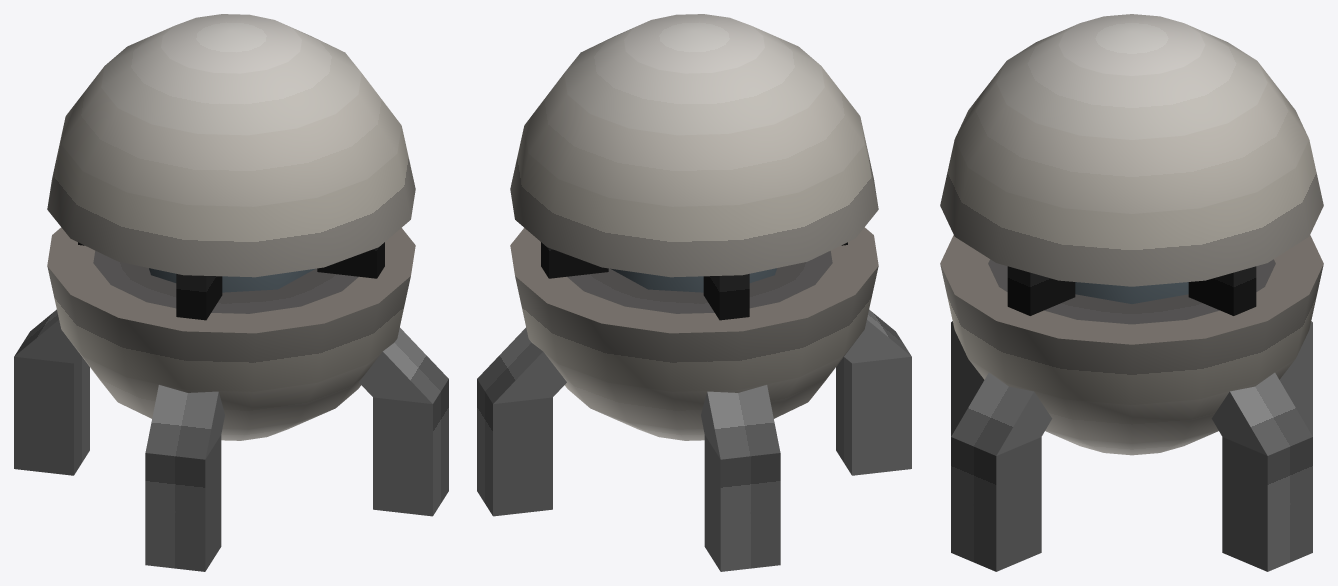
Rendered from demon_lamp.obj.
3 views of the same model, side by side, from view 1: azimuth 30°, elevation 25°; view 2: azimuth 150°, elevation 25°; view 3: azimuth 270°, elevation 25° (orthographic). The views are drawn at different scales.
Parts seen in each view (by area): view 1: Sphere; view 2: Sphere; view 3: Sphere.
Part boxes in pixels (<box>): Sphere: <box>14,14,448,571</box>; Sphere: <box>477,14,911,571</box>; Sphere: <box>940,14,1323,571</box>.
Size of the model in its own units: 0.75 by 1 by 0.75.
